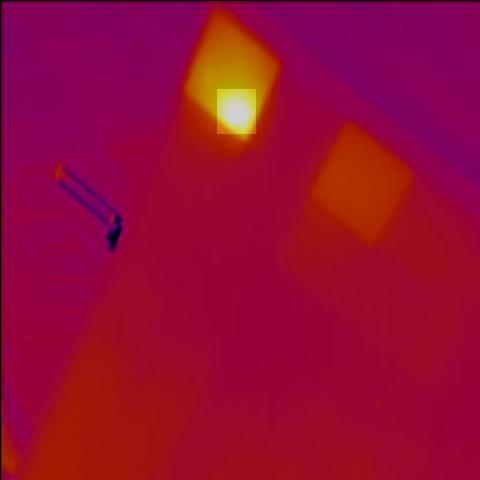fault: (217, 89, 256, 134)
